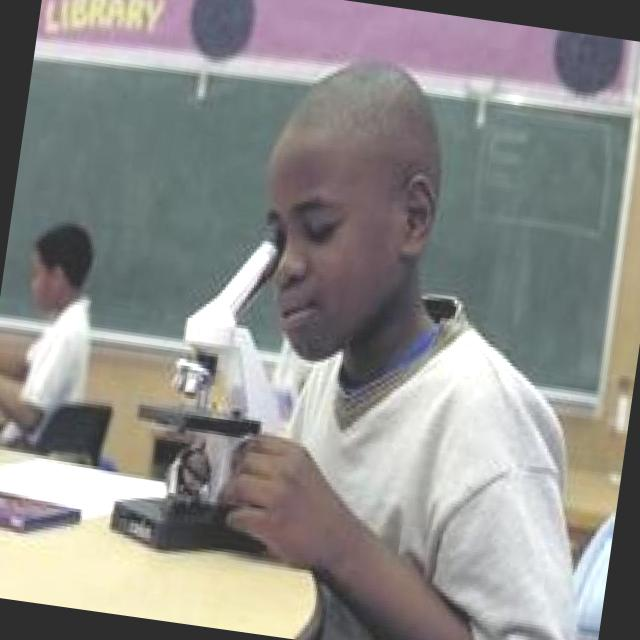no_vest: (251, 285, 602, 575), (12, 302, 116, 423)
